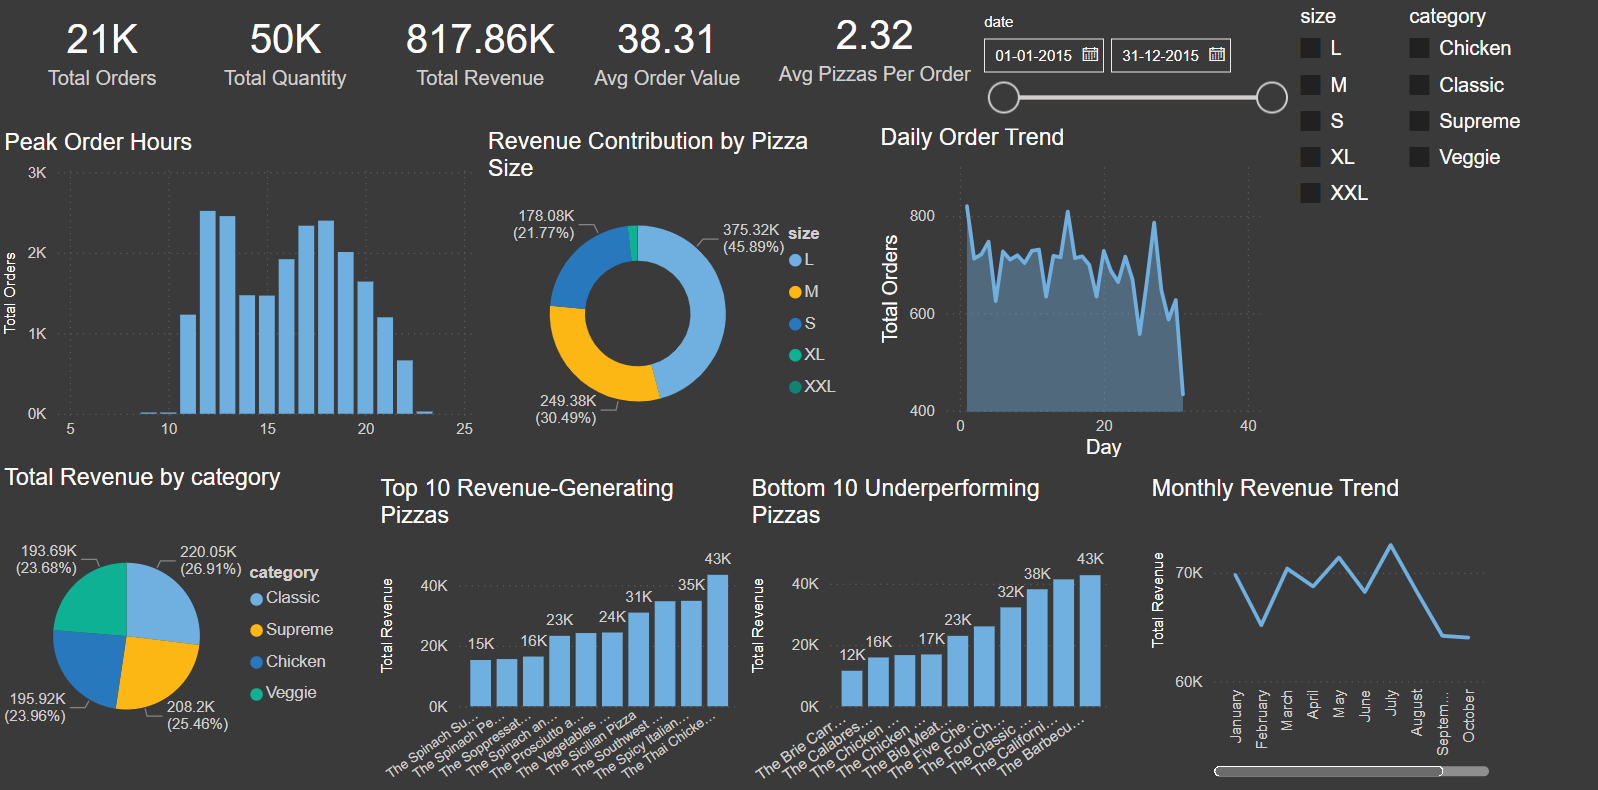

This screenshot's page, from the dashboard's own definition file:
{"tool":"powerbi","page":{"name":"Sales Overview Dashboard","canvas":[1280,720],"ordinal":0},"visuals":[{"type":"card","fields":{"Values":["order_details.Total orders"]},"box":[0,0,167.4,79.6],"z":0},{"type":"card","fields":{"Values":["order_details.Total Quantity"]},"box":[149.6,0,160.5,79.6],"z":1000},{"type":"card","fields":{"Values":["order_details.total revenue"]},"box":[310.1,0,152.3,79.6],"z":2000},{"type":"card","fields":{"Values":["order_details.Avg orders"]},"box":[453,3,165,74],"z":3000},{"type":"clusteredColumnChart","title":"Peak Order Hours","fields":{"Category":["orders.order hour"],"Y":["order_details.Total orders"]},"box":[0,104.3,387,255.2],"z":4000},{"type":"pieChart","fields":{"Category":["pizza_types.category"],"Y":["order_details.Total Revenue"]},"box":[0,371.9,282.7,255.2],"z":5000},{"type":"slicer","fields":{"Values":["pizza_types.category"]},"box":[1115.6,0,164.7,155.1],"z":6000},{"type":"donutChart","title":"Revenue Contribution by Pizza Size","fields":{"Category":["pizzas.size"],"Y":["order_details.total revenue"]},"box":[387,103,298,256],"z":7000},{"type":"slicer","fields":{"Values":["pizzas.size"]},"box":[1029.2,0,86.4,177],"z":8000},{"type":"clusteredColumnChart","title":"Top 10 Revenue-Generating Pizzas","fields":{"Y":["order_details.total revenue"],"Category":["pizza_types.name"]},"box":[300.5,381.5,297.8,255.2],"z":9000},{"type":"clusteredColumnChart","title":"Bottom 10 Underperforming Pizzas","fields":{"Y":["order_details.total revenue"],"Category":["pizza_types.name"]},"box":[598.3,381.5,297.8,255.2],"z":9001},{"type":"stackedAreaChart","title":"Daily Order Trend","fields":{"Y":["order_details.Total orders"],"Category":["orders.date.Variation.Date Hierarchy.Day"]},"box":[701,100,314,272],"z":9002},{"type":"slicer","fields":{"Values":["orders.date"]},"box":[776,6,264,98],"z":9003},{"type":"lineChart","title":"Monthly Revenue Trend","fields":{"Category":["orders.date.Variation.Date Hierarchy.Month"],"Y":["order_details.total revenue"]},"box":[918,381,280,246],"z":9004},{"type":"card","fields":{"Values":["order_details.Avg Pizzas per Order"]},"box":[618,0,167,74],"z":9005}]}

Visuals, with their boxes on the page's 1280x720 design canvas (x1, y1, x2, y2). These are canvas units, not pixel positions in the 1598x790 screenshot, which may show the page scaled, cropped or inside an application window:
card - order_details.Total orders: x1=0 y1=0 x2=167 y2=80
card - order_details.Total Quantity: x1=150 y1=0 x2=310 y2=80
card - order_details.total revenue: x1=310 y1=0 x2=462 y2=80
card - order_details.Avg orders: x1=453 y1=3 x2=618 y2=77
"Peak Order Hours" clusteredColumnChart: x1=0 y1=104 x2=387 y2=360
pieChart - pizza_types.category x order_details.Total Revenue: x1=0 y1=372 x2=283 y2=627
slicer - pizza_types.category: x1=1116 y1=0 x2=1280 y2=155
"Revenue Contribution by Pizza Size" donutChart: x1=387 y1=103 x2=685 y2=359
slicer - pizzas.size: x1=1029 y1=0 x2=1116 y2=177
"Top 10 Revenue-Generating Pizzas" clusteredColumnChart: x1=300 y1=382 x2=598 y2=637
"Bottom 10 Underperforming Pizzas" clusteredColumnChart: x1=598 y1=382 x2=896 y2=637
"Daily Order Trend" stackedAreaChart: x1=701 y1=100 x2=1015 y2=372
slicer - orders.date: x1=776 y1=6 x2=1040 y2=104
"Monthly Revenue Trend" lineChart: x1=918 y1=381 x2=1198 y2=627
card - order_details.Avg Pizzas per Order: x1=618 y1=0 x2=785 y2=74
